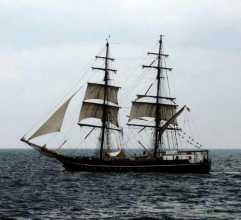fanchuan: (28, 31, 217, 169)
